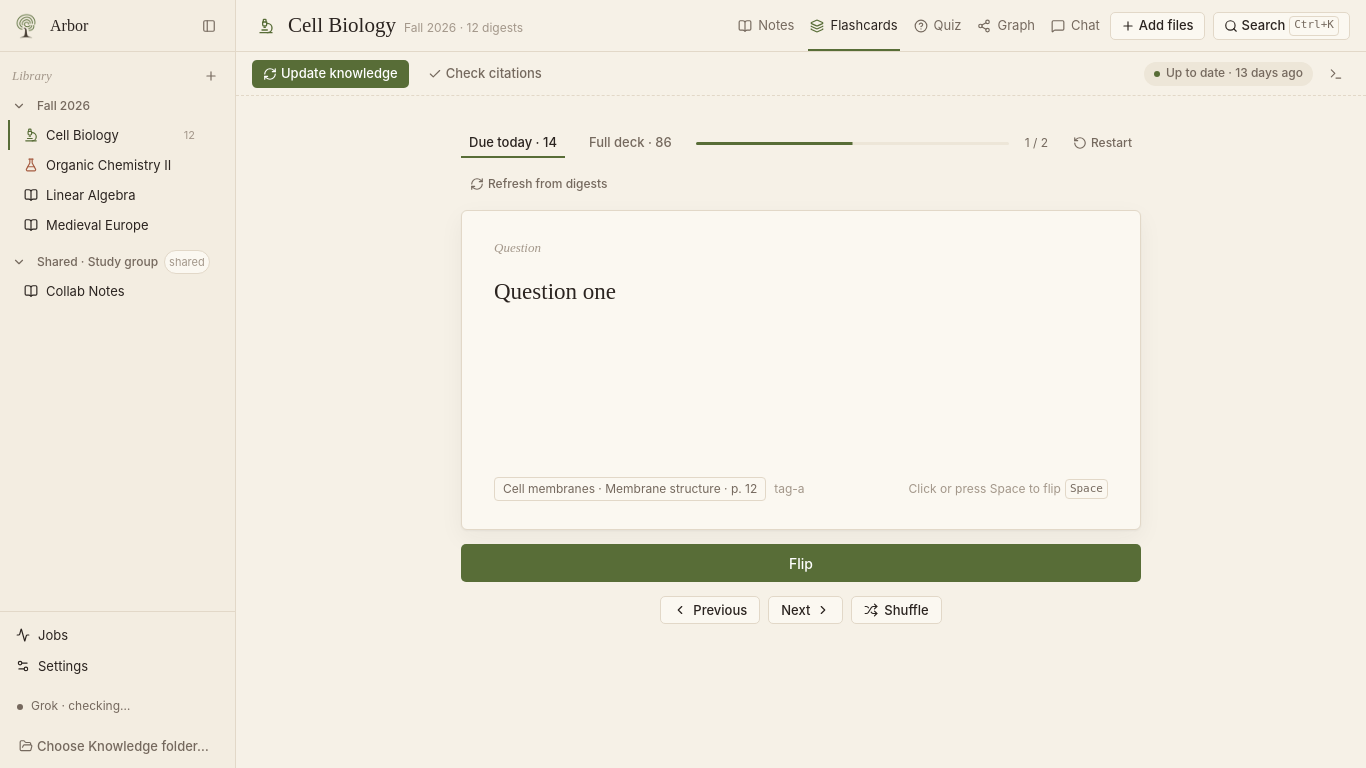
Test case: flashcards PR8 › full deck wrong advances to the next card
Expected: the element with test id "flashcards-view" is shown, top-left (461, 128), bottom-right (1141, 624)
Expected: the tab "Due today · 14" is shown, top-left (461, 128), bottom-right (565, 158)
Click the tab "Full deck · 86" at x=630, y=143, box top-left (581, 128), bottom-right (680, 158)
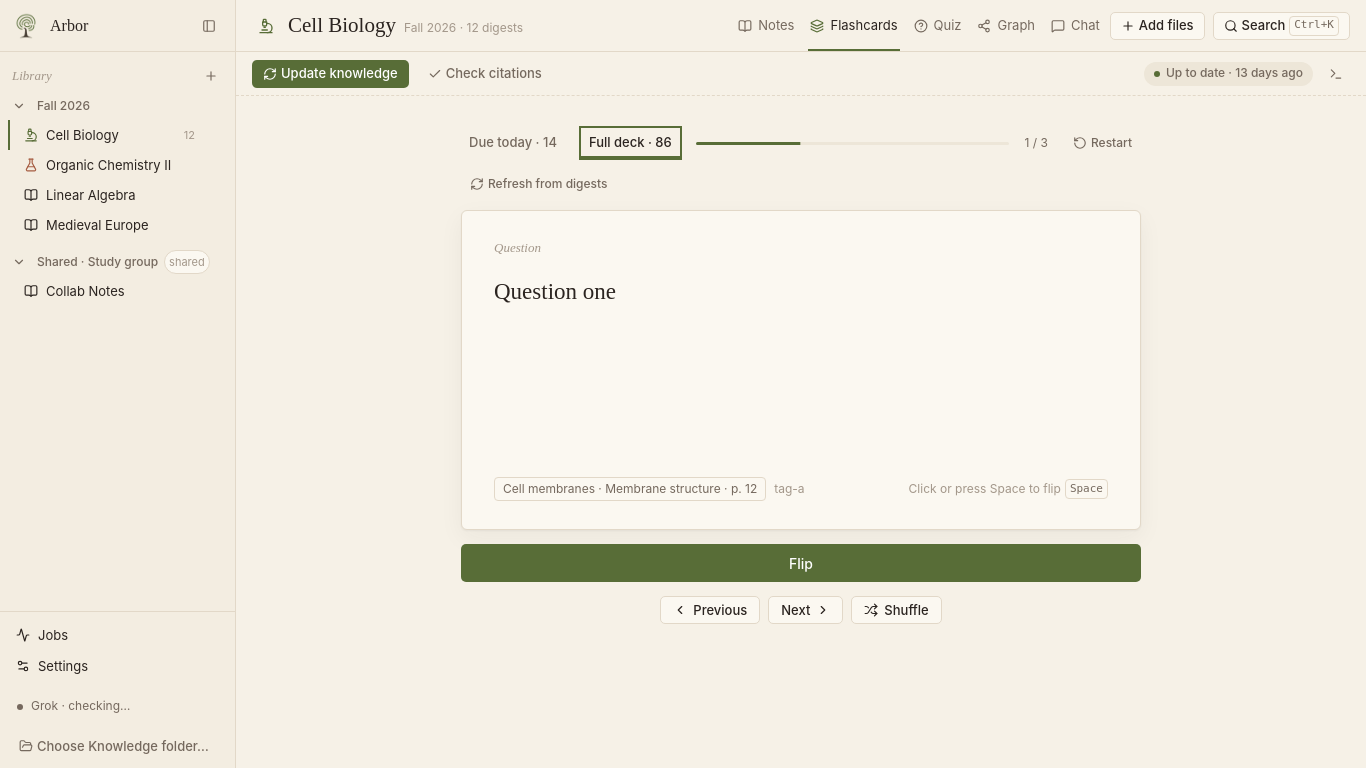
Click the button "Flip" at x=801, y=563, box top-left (461, 544), bottom-right (1141, 582)
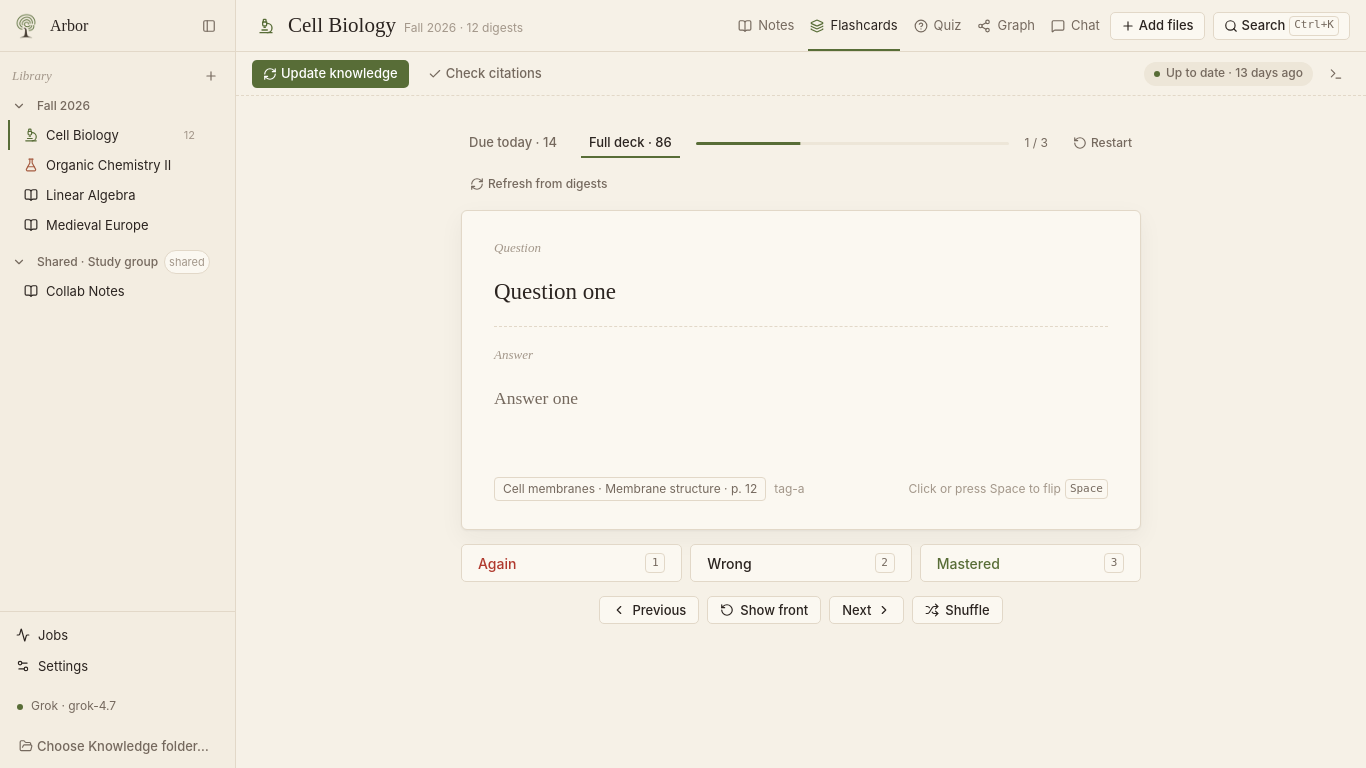
Click the button "Wrong 2" at x=801, y=563, box top-left (690, 544), bottom-right (912, 582)
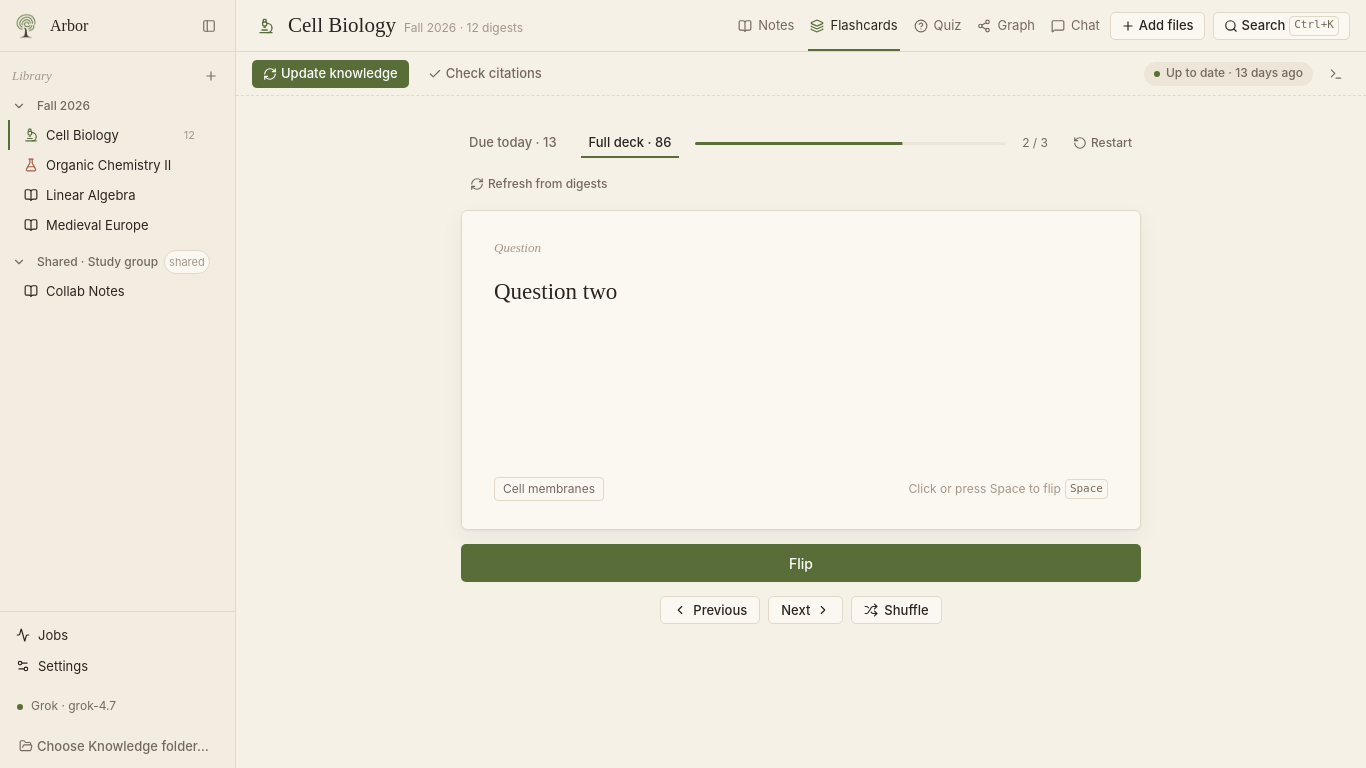
Expected: the text "Question two" is shown, top-left (494, 279), bottom-right (617, 304)
Expected: the text "2 / 3" is shown, top-left (1022, 135), bottom-right (1048, 151)
